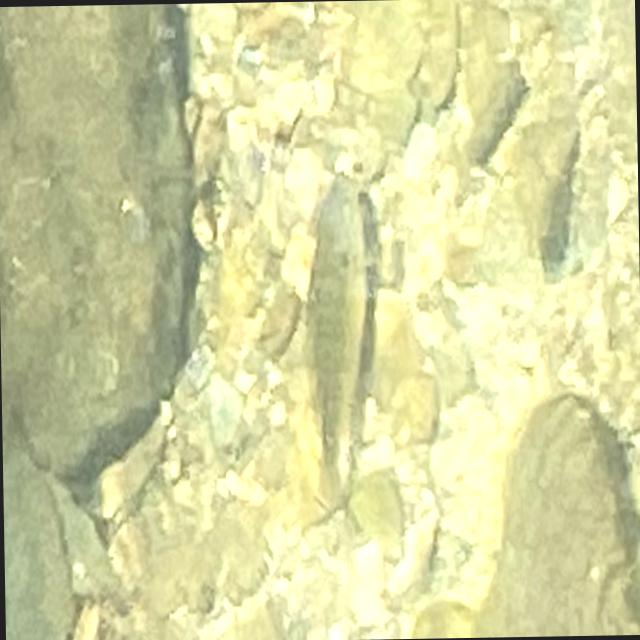Gunes Levregi: (292, 154, 382, 520)
